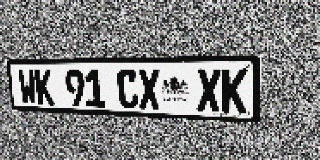1: (83, 69, 105, 108)
9: (65, 69, 86, 107)
C: (117, 69, 139, 109)
K: (221, 69, 248, 113), (34, 69, 55, 106)
W: (17, 69, 38, 105)
X: (197, 69, 221, 112), (138, 69, 160, 110)
